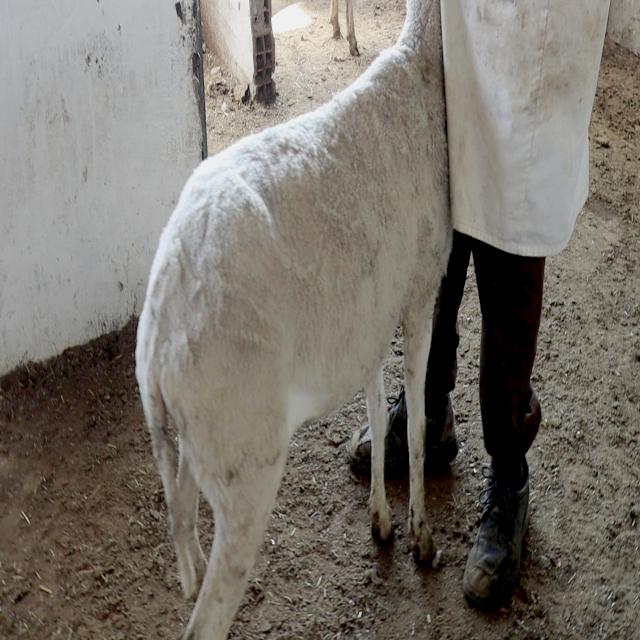Score_3: (136, 0, 453, 639)
